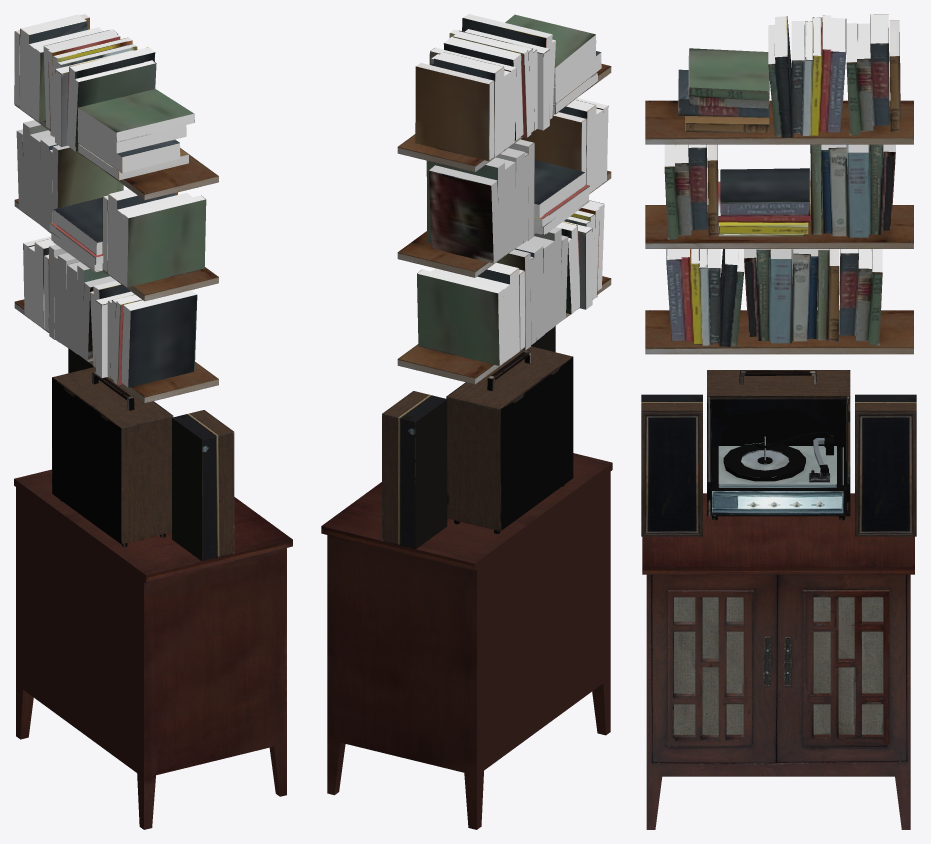
The model's file is FIxed_Music_Setup.fbx.
3 renders of one model, left to right at view 1: azimuth 30°, elevation 25°; view 2: azimuth 150°, elevation 25°; view 3: azimuth 270°, elevation 25°, orthographic. The views are drawn at different scales.
Visible parts, largest first — view 1: Book_Set_3.002; view 2: Book_Set_3.002; view 3: Book_Set_3.002.
Boxes of the visible parts, x1,y1,x2,y2 form: Book_Set_3.002: (14, 14, 292, 829); Book_Set_3.002: (321, 14, 612, 829); Book_Set_3.002: (641, 14, 916, 829).
Size of the model in its own units: 81.83 by 57.07 by 243.
17 materials, 17 textured.
